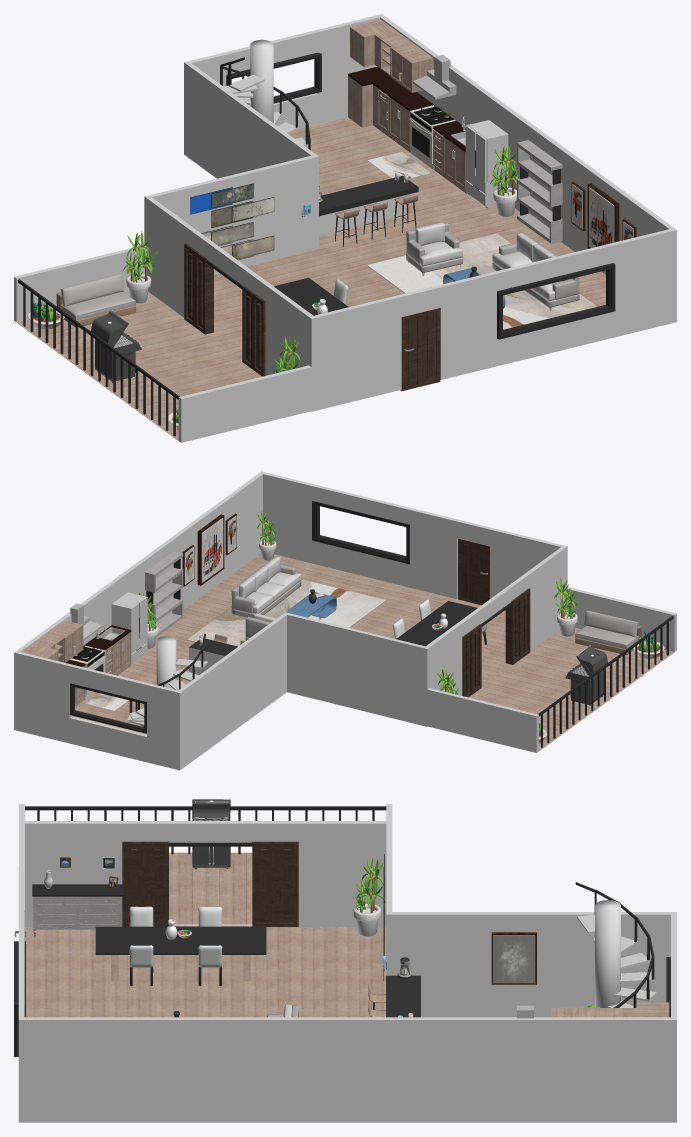
The model's file is SanlamHouse(InteriorOnly).glb.
3 views of the same model, one above another, from view 1: azimuth 30°, elevation 25°; view 2: azimuth 150°, elevation 25°; view 3: azimuth 270°, elevation 25° (orthographic). The views are drawn at different scales.
Parts seen in each view (by area): view 1: Walls, Wall(Remove), CabinetA01Door, Carpet 01, Modern Shelves, Door, Sofa39, Sofa33, Door Handle 1.001, Sofa32.001, Door Handle 1.002, Piano Mover's Holiday by Charles Demuth (+16 smaller); view 2: Walls, Wall(Remove), Carpet 01, CabinetA01Door, Sofa33, Modern Shelves, Sofa39.001, Door, Door Handle 1.002, Piano Mover's Holiday by Charles Demuth, Table10, Door Handle 1.001 (+12 smaller); view 3: Walls, Table10, Drawer35_3, Door Handle 1.001, Door Handle 1.002, Cylinder, Sidewall floral by Ericson & Weiss, Circle.001, Wall(Remove), yucca_plant_large_potted.002, CabinetA01Door, GRILL HOUSING (+5 smaller).
Part boxes in pixels (x1,y1,x2,y2): Walls: (14,14,676,442); Wall(Remove): (311,229,676,411); CabinetA01Door: (348,19,467,193); Carpet 01: (367,233,596,329); Modern Shelves: (517,140,562,243); Door: (400,308,440,391); Sofa39: (56,273,135,327); Sofa33: (492,232,579,311); Door Handle 1.001: (184,243,213,334); Sofa32.001: (406,222,462,275); Door Handle 1.002: (242,286,265,376); Piano Mover's Holiday by Charles Demuth: (587,183,619,248); Walls: (14,471,676,770); Wall(Remove): (261,471,566,610); Carpet 01: (187,579,385,646); CabinetA01Door: (22,620,131,706); Sofa33: (231,556,301,617); Modern Shelves: (145,551,183,637); Sofa39.001: (575,610,641,655); Door: (458,539,489,605); Door Handle 1.002: (505,588,530,664); Piano Mover's Holiday by Charles Demuth: (197,514,224,585); Table10: (396,601,477,646); Door Handle 1.001: (462,624,481,697); Walls: (18,804,676,1122); Table10: (95,926,266,980); Drawer35_3: (32,884,123,936); Door Handle 1.001: (252,841,298,926); Door Handle 1.002: (122,841,168,926); Cylinder: (595,900,620,1007); Sidewall floral by Ericson & Weiss: (491,932,536,984); Circle.001: (575,882,656,1007); Wall(Remove): (14,821,25,1056); yucca_plant_large_potted.002: (353,858,385,936); CabinetA01Door: (551,1002,669,1017); GRILL HOUSING: (192,818,230,867).
Size of the model in its own units: 14.62 by 3.64 by 15.17.
Materials: 58 (27 with a texture image).
